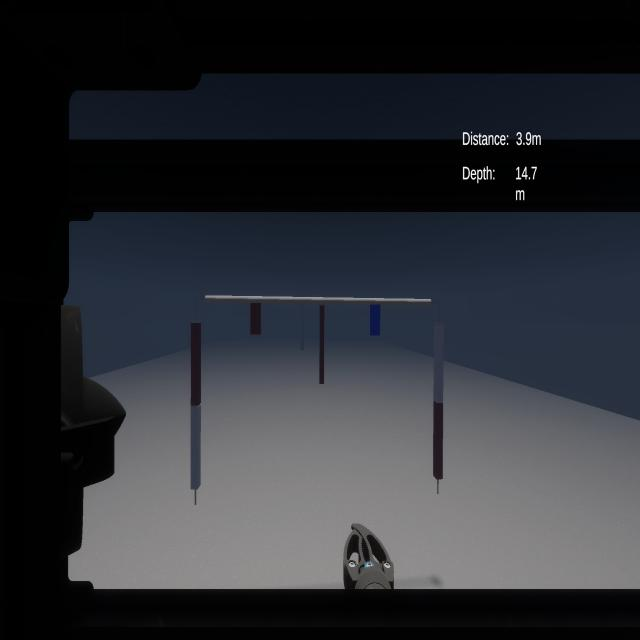Depth: (462, 162, 546, 208)
Distance: (459, 125, 546, 153)
Gate: (170, 262, 464, 513)
